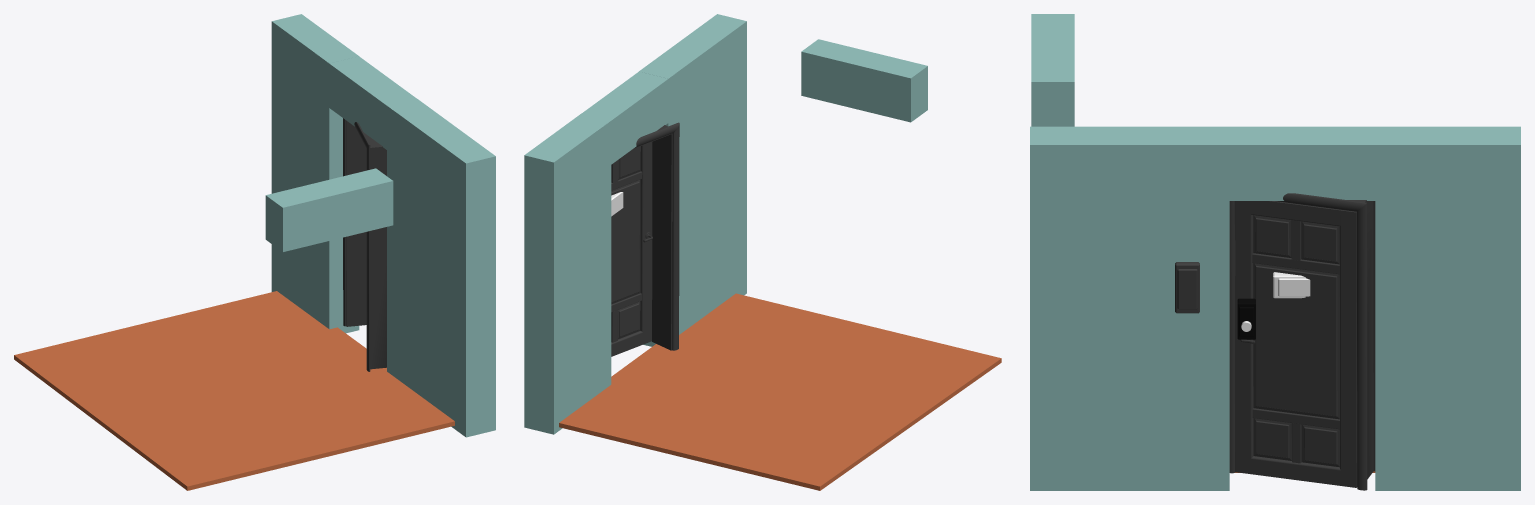
File: homeDoor.FBX
3 views of the same model, side by side, from view 1: azimuth 30°, elevation 25°; view 2: azimuth 150°, elevation 25°; view 3: azimuth 270°, elevation 25° (orthographic). The views are drawn at different scales.
Visible parts, largest first — view 1: Line040, Line2091, Object007, Rectangle015; view 2: Line040, Line2091, Rectangle015, Object007; view 3: Line040, Rectangle015, Object007, Box011, Box009, Box010.
Part boxes in pixels (bbox=[...]): Line040: bbox=[271, 14, 495, 437]; Line2091: bbox=[14, 291, 454, 490]; Object007: bbox=[265, 168, 393, 251]; Rectangle015: bbox=[343, 118, 386, 371]; Line040: bbox=[524, 14, 746, 434]; Line2091: bbox=[559, 293, 1001, 490]; Rectangle015: bbox=[611, 122, 679, 356]; Object007: bbox=[801, 39, 927, 122]; Line040: bbox=[1030, 126, 1520, 490]; Rectangle015: bbox=[1229, 193, 1375, 490]; Object007: bbox=[1031, 14, 1074, 126]; Box011: bbox=[1175, 262, 1199, 313]; Box009: bbox=[1273, 272, 1310, 298]; Box010: bbox=[1237, 298, 1255, 339].
Size of the model in its own units: 75.3 by 62.65 by 80.55.
